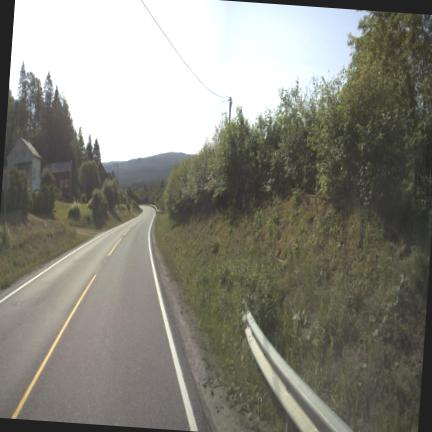Road: (0, 207, 208, 430)
